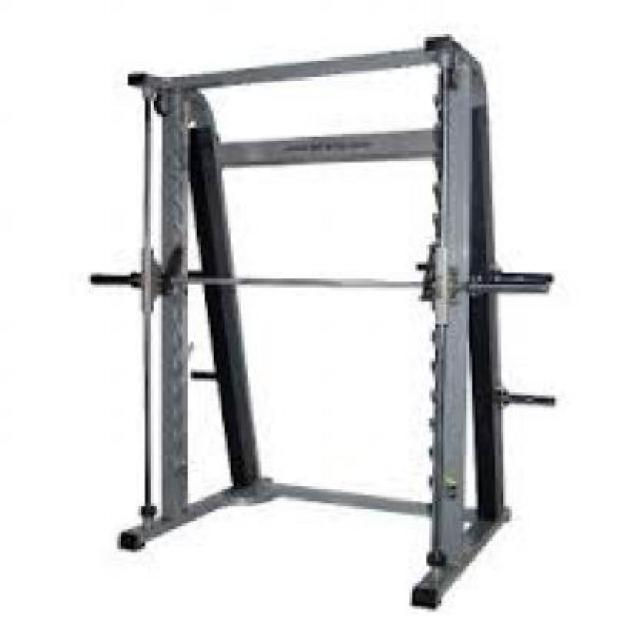smith machine: (91, 32, 557, 610)
